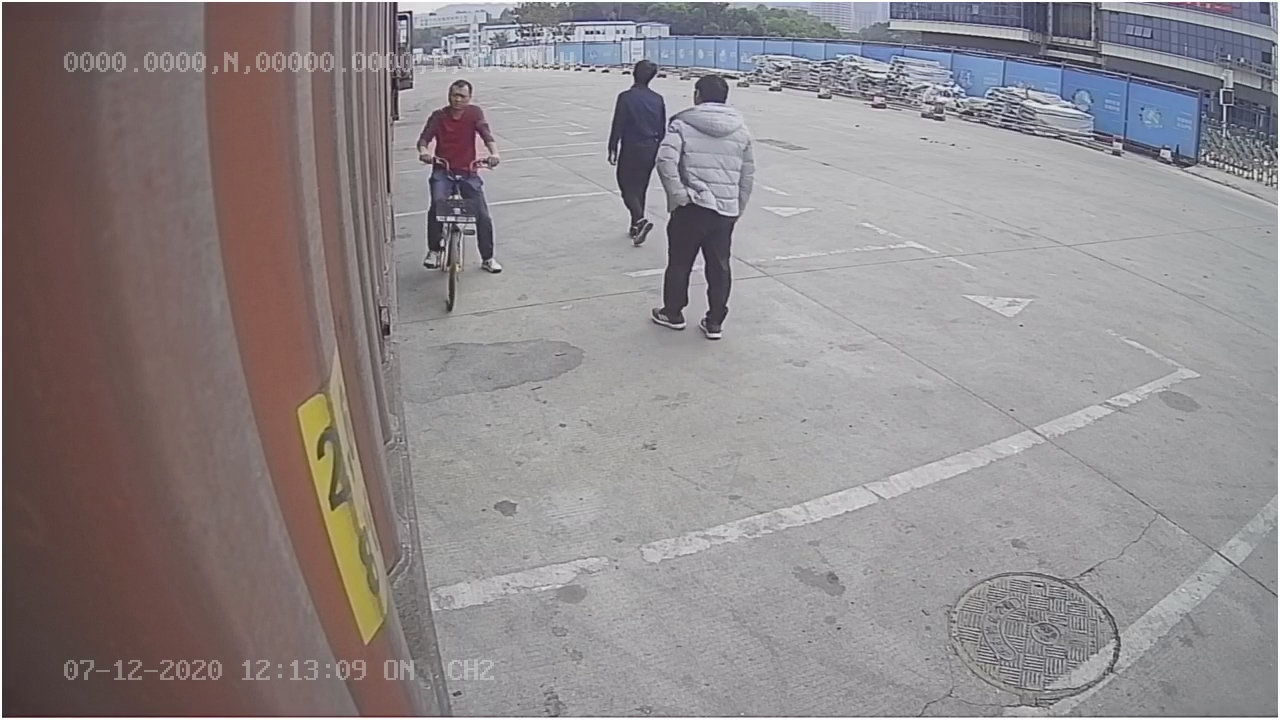person: (651, 68, 756, 339)
